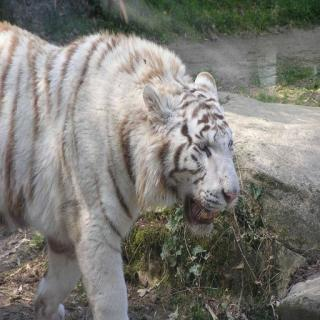Tiger: (0, 10, 283, 320)
